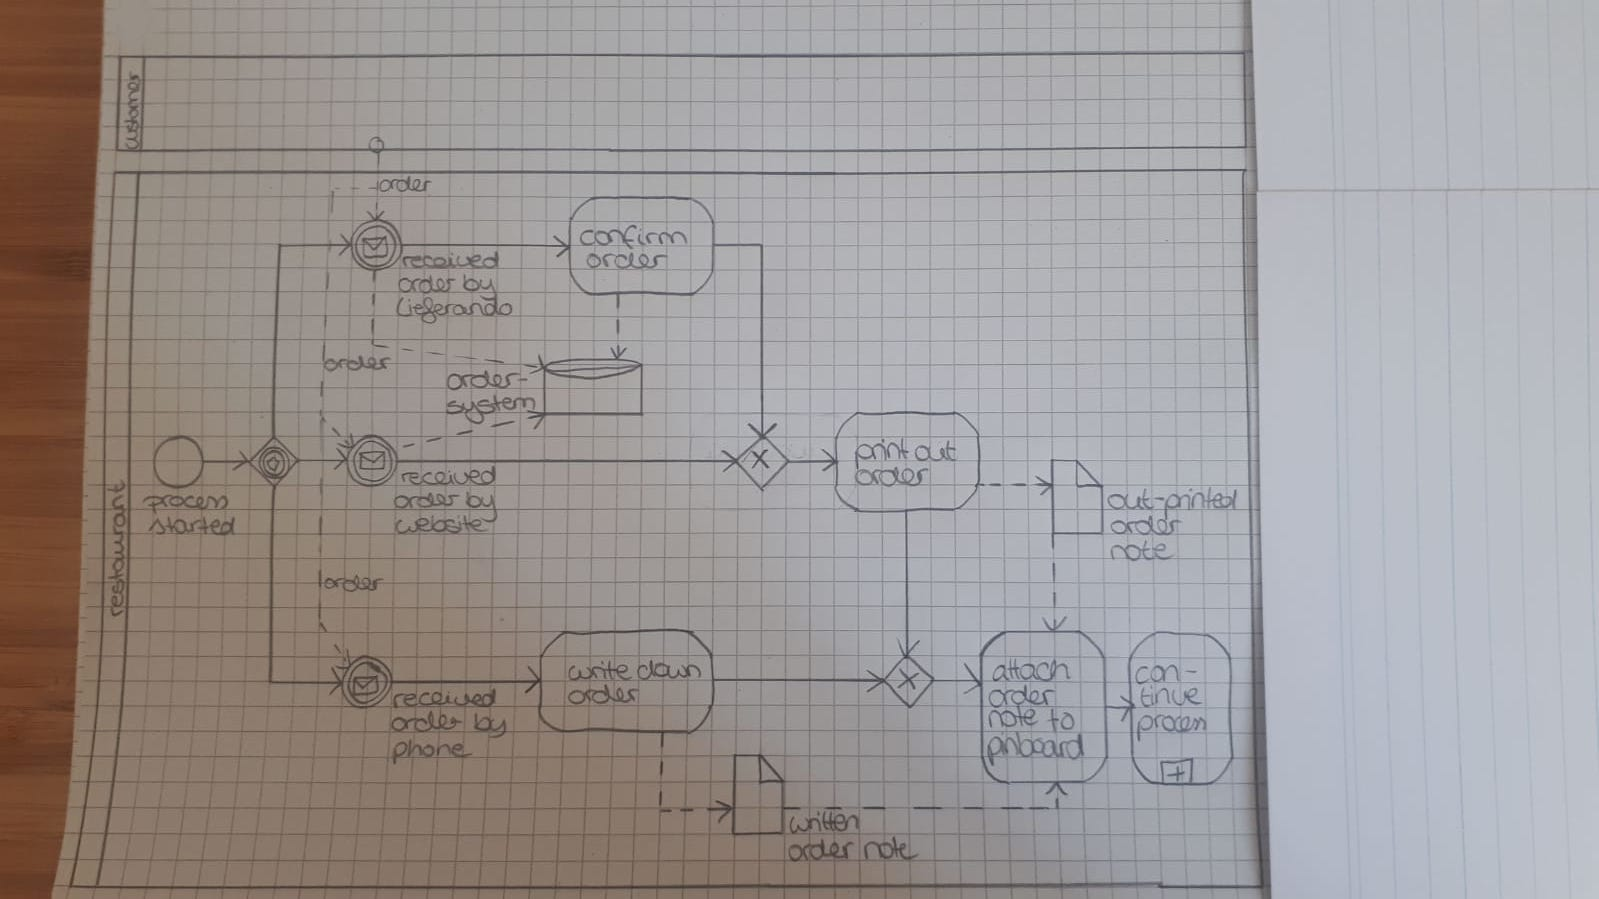Lieferando: (393, 296, 518, 321)
attach: (989, 658, 1074, 686)
by: (462, 485, 500, 522), (471, 711, 515, 742), (459, 270, 499, 303)
con-tinue: (1133, 662, 1204, 709)
confirm: (575, 221, 691, 251)
customer: (120, 68, 142, 154)
down: (634, 656, 703, 682)
note: (858, 838, 926, 864), (985, 704, 1042, 731), (1105, 539, 1173, 561)
order: (851, 460, 935, 488), (1106, 510, 1186, 538), (564, 681, 645, 707), (782, 839, 864, 864), (390, 710, 468, 735), (581, 248, 666, 271), (322, 349, 396, 373), (985, 685, 1054, 710), (444, 369, 523, 391), (390, 491, 465, 510), (322, 572, 388, 594), (393, 273, 459, 295), (374, 175, 435, 194)
out: (1103, 486, 1158, 512), (912, 438, 959, 465)
phone: (385, 739, 467, 766)
pinboard: (984, 729, 1091, 767)
print: (854, 438, 913, 469)
printed: (1163, 486, 1239, 522)
process: (1133, 709, 1212, 741), (141, 493, 235, 515)
received: (388, 686, 500, 712), (398, 463, 500, 487), (396, 250, 504, 272)
restaurant: (107, 479, 128, 621)
started: (145, 513, 241, 538)
system: (444, 393, 538, 424)
to: (1045, 708, 1077, 733)
website: (389, 513, 488, 536)
write: (564, 660, 636, 683)
written: (784, 806, 866, 838)
